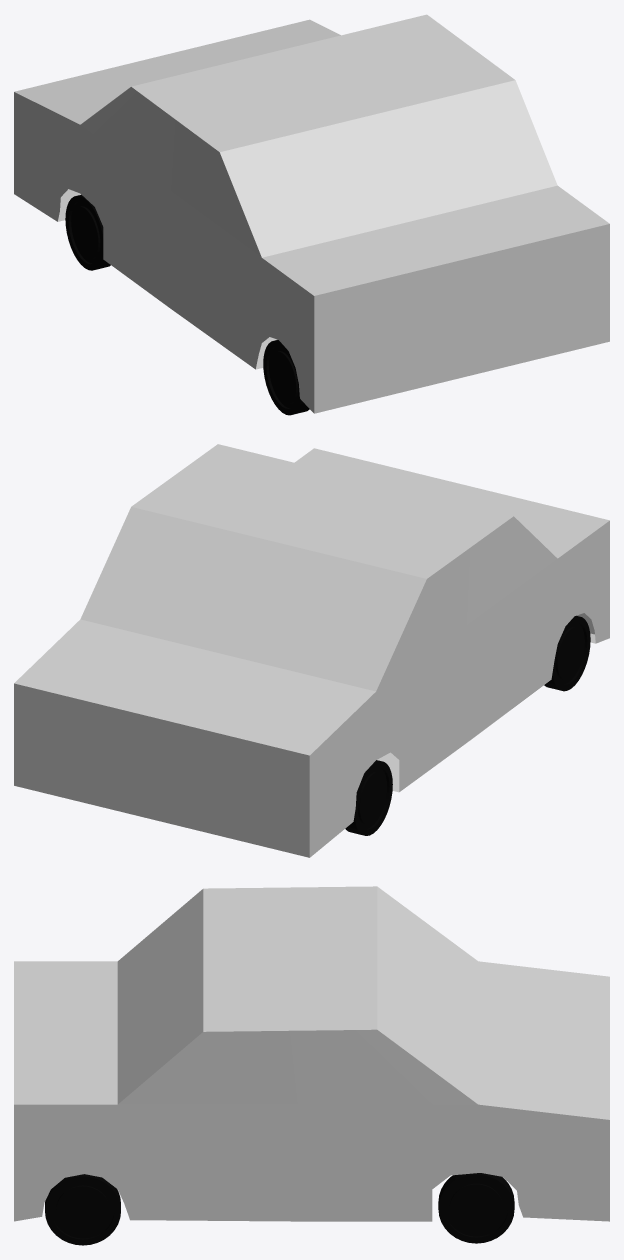
File: car.glb
3 views of the same model, one above another, from view 1: azimuth 30°, elevation 25°; view 2: azimuth 150°, elevation 25°; view 3: azimuth 270°, elevation 25° (orthographic).
Parts seen in each view (by area): view 1: Cube, Cylinder, Cylinder.001; view 2: Cube, Cylinder, Cylinder.001; view 3: Cube, Cylinder.002, Cylinder.003.
Part boxes in pixels (x1,y1,x2,y2): Cube: (14, 14, 609, 413); Cylinder: (65, 194, 110, 270); Cylinder.001: (263, 340, 309, 415); Cube: (14, 444, 609, 857); Cylinder: (345, 760, 392, 835); Cylinder.001: (544, 615, 590, 691); Cube: (14, 886, 609, 1221); Cylinder.002: (438, 1173, 514, 1243); Cylinder.003: (45, 1174, 120, 1245).
Size of the model in its own units: 2.01 by 1.41 by 3.52.
Materials: 5 (4 with a texture image).
